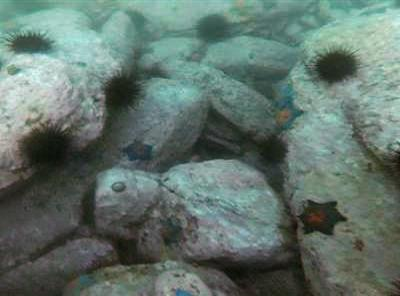urchin: (314, 45, 360, 84), (106, 67, 142, 111), (8, 27, 56, 57), (194, 12, 232, 42), (260, 133, 292, 165)
